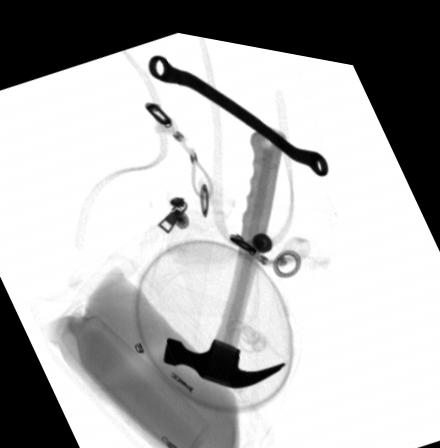Hammer: (162, 115, 286, 379)
Wrench: (147, 47, 329, 163)
